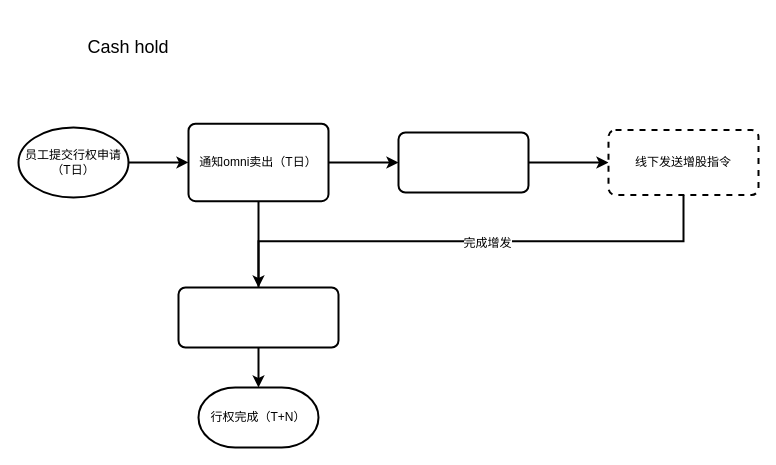
Image size: 776x465. Some labels were removed from this diagram. The shapes that lost their labels are listed below. From the top down, each one's centre as x and y in pixels, then its label:
point (463, 162): 统计需要增股数量（T日收盘后）
point (258, 317): 收益到账，通知omni转资金至员工账户（T+2日）
